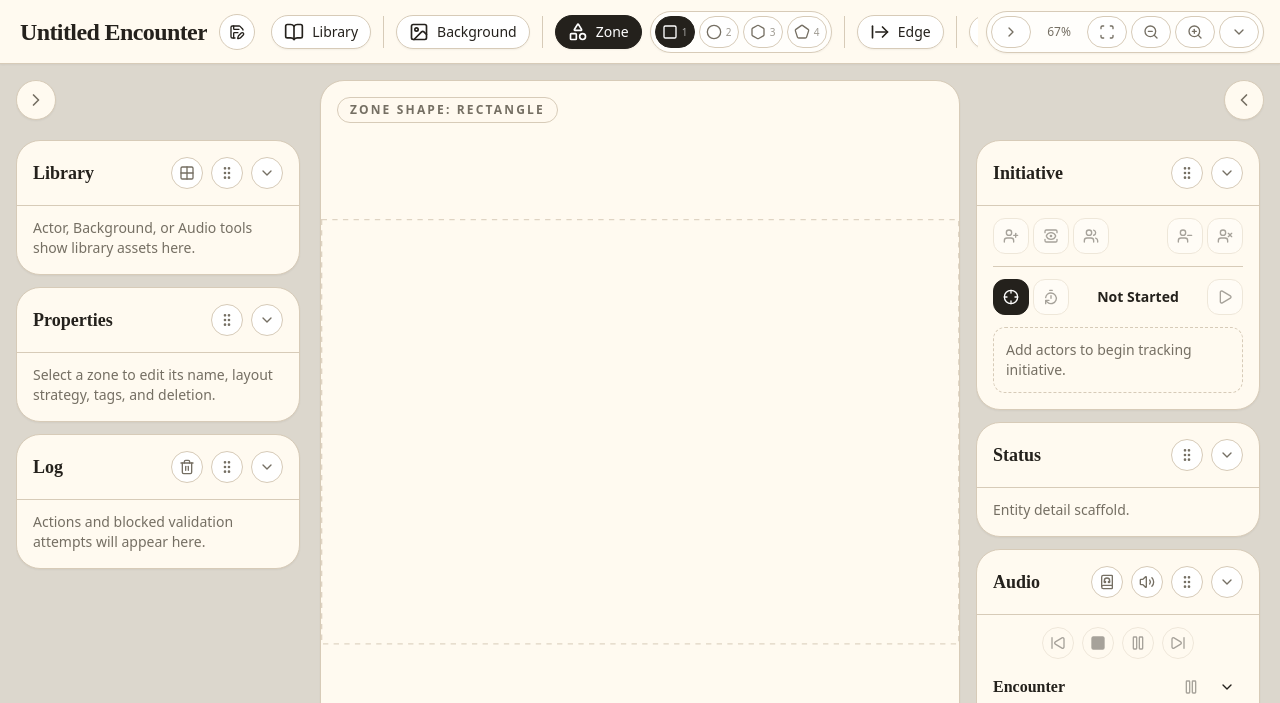
PanelsShell › moves side panels with a touch pointer drag
The width and height of the screenshot is (1280, 703).
Press the mouse on the button named "Reorder Status panel" at (1187, 455), box [1171,439,1203,471]
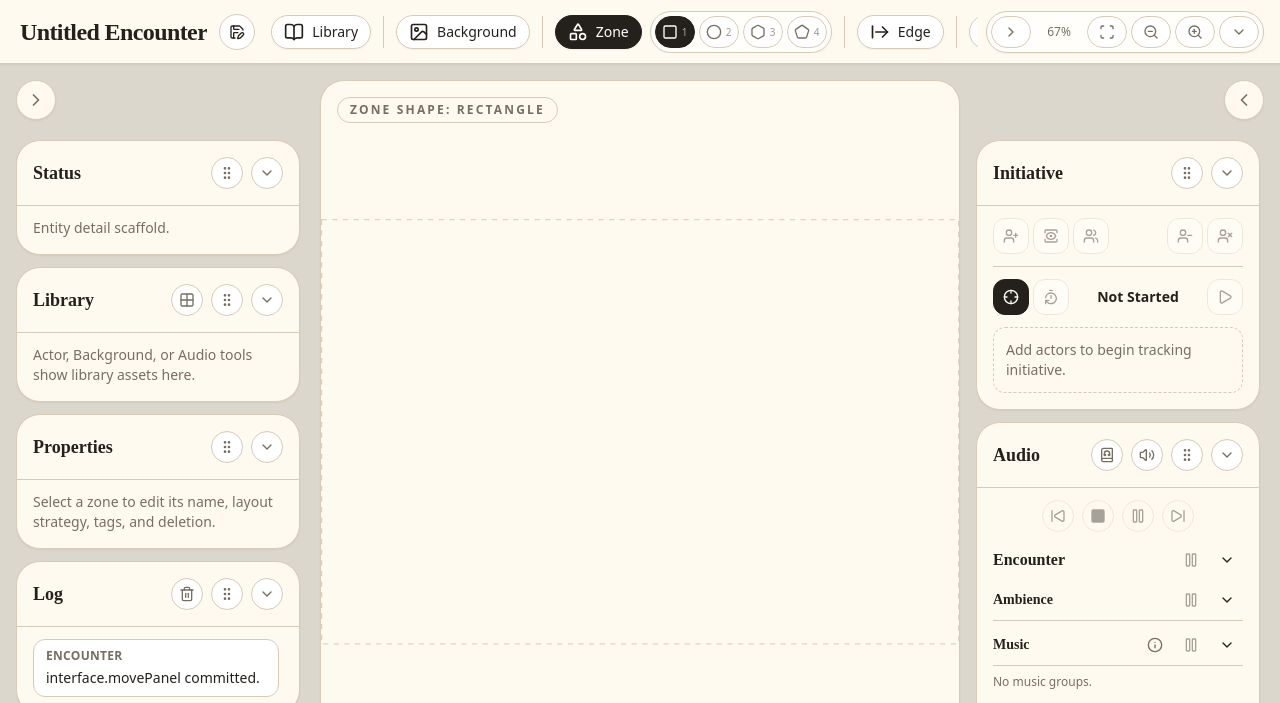
Expected: the headings read "Status", "Library", "Properties", "Log", in this order, [33,159,81,187]; [33,286,94,314]; [33,433,113,461]; [33,580,63,608]
